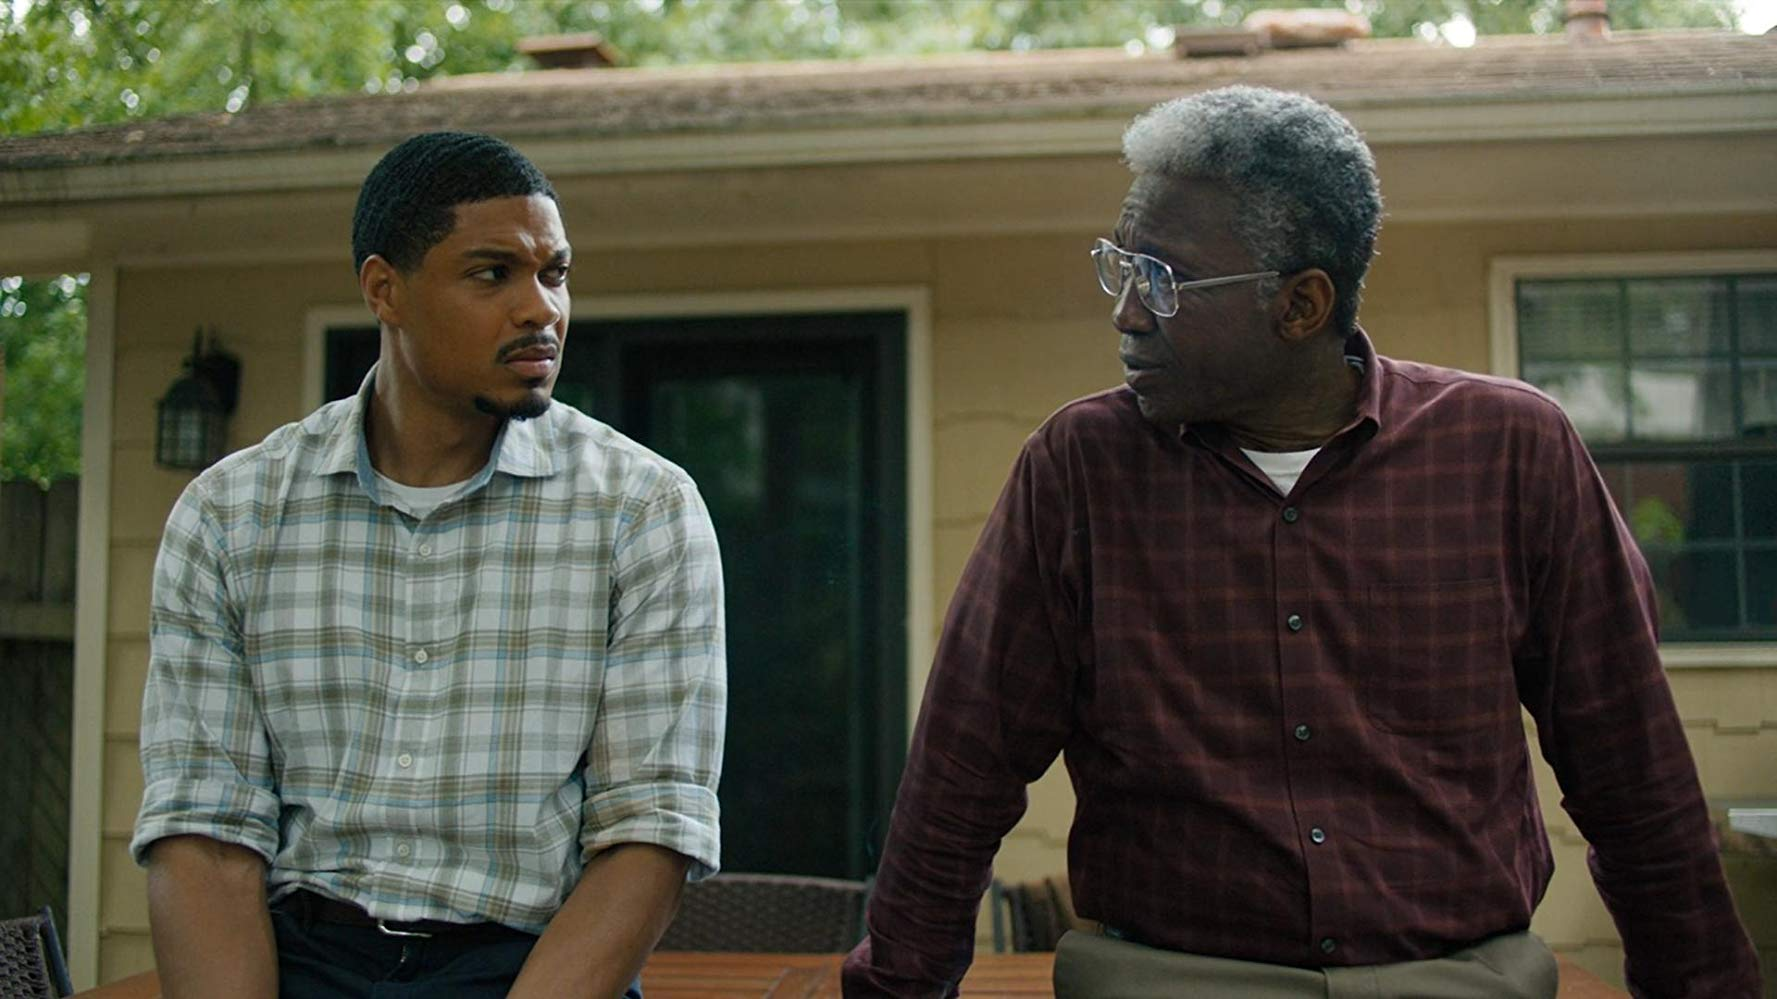person: (887, 95, 1773, 991), (124, 137, 729, 999)
